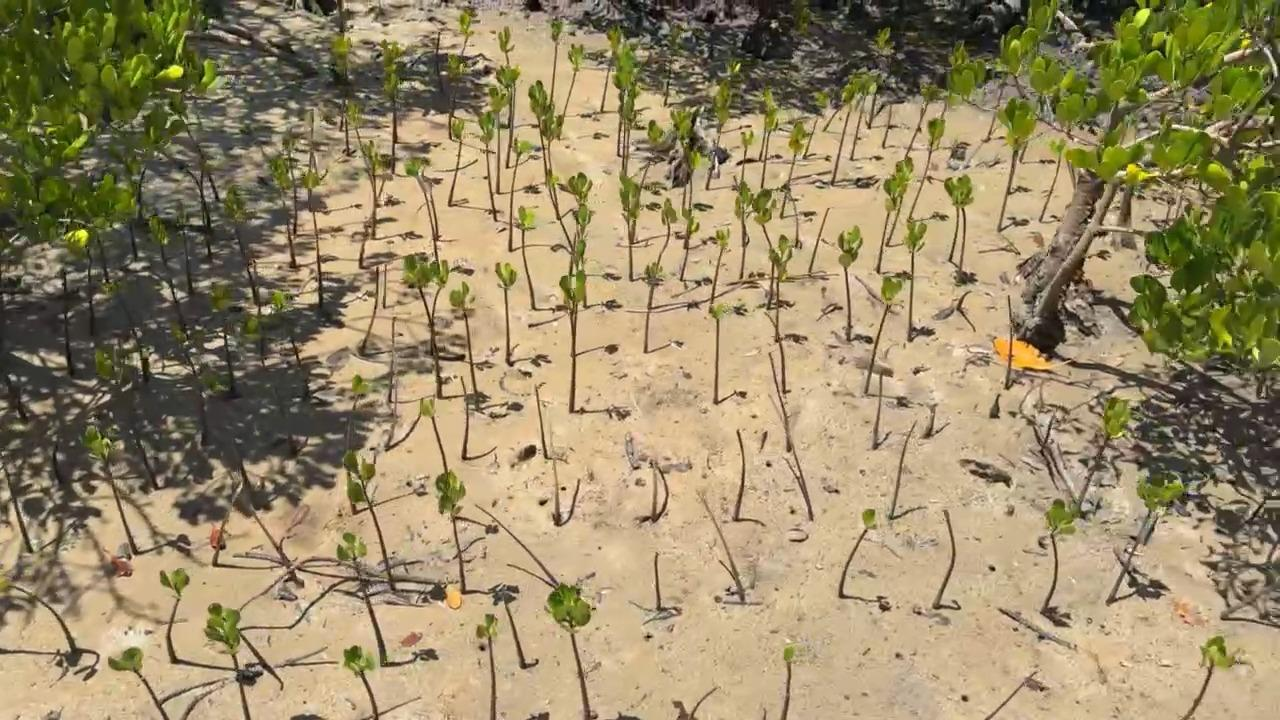Tree: (343, 451, 448, 602), (82, 422, 192, 557), (336, 530, 440, 668), (159, 568, 265, 688), (405, 252, 484, 408), (437, 469, 518, 605), (559, 269, 631, 420), (0, 575, 101, 682), (1106, 476, 1185, 608), (449, 282, 526, 412), (95, 342, 156, 486), (0, 454, 85, 554), (475, 613, 550, 720), (1072, 396, 1133, 518), (247, 317, 299, 454), (493, 262, 555, 368), (547, 583, 594, 720), (864, 274, 911, 407), (566, 171, 623, 280), (345, 98, 402, 204), (649, 196, 702, 309), (545, 14, 602, 119), (489, 86, 543, 196), (362, 142, 421, 240), (838, 508, 893, 612), (361, 266, 421, 360), (205, 602, 251, 720), (447, 119, 502, 213), (570, 204, 619, 309), (1180, 635, 1240, 720), (299, 167, 333, 311), (557, 44, 608, 139), (404, 158, 444, 278), (906, 116, 950, 225), (495, 65, 540, 171), (223, 184, 263, 303), (705, 92, 752, 193), (1041, 500, 1078, 628), (211, 500, 279, 569), (830, 90, 876, 191), (768, 235, 809, 348), (108, 646, 170, 720), (836, 226, 873, 346), (621, 169, 658, 285), (272, 288, 312, 395), (386, 316, 433, 407), (632, 119, 676, 215), (499, 27, 540, 129), (904, 216, 936, 343), (778, 120, 818, 220), (709, 303, 748, 404), (624, 72, 661, 178), (535, 133, 579, 220), (890, 418, 928, 518), (183, 154, 219, 259), (346, 375, 373, 514), (327, 33, 358, 154), (209, 282, 242, 395), (149, 218, 185, 319), (528, 81, 567, 174), (644, 260, 682, 355), (179, 117, 223, 198), (944, 176, 977, 284), (753, 187, 791, 280), (732, 428, 767, 528), (269, 156, 299, 268), (375, 39, 408, 139), (428, 257, 475, 325), (461, 375, 497, 463), (734, 179, 764, 282), (252, 515, 297, 582), (933, 508, 962, 610), (850, 79, 886, 161), (421, 161, 456, 245), (284, 123, 310, 236), (680, 208, 716, 289), (613, 41, 639, 153), (907, 80, 944, 156), (1219, 582, 1280, 628), (821, 77, 870, 134), (999, 139, 1029, 232), (717, 59, 754, 132), (984, 670, 1038, 720), (1039, 135, 1069, 225), (120, 293, 151, 380), (600, 22, 629, 114), (661, 21, 692, 106), (760, 112, 792, 192), (345, 645, 379, 720), (188, 363, 218, 447), (535, 384, 566, 465), (504, 598, 539, 669), (945, 178, 970, 276), (670, 108, 700, 188), (768, 353, 792, 452), (303, 108, 328, 200), (684, 143, 715, 217), (783, 446, 813, 522), (552, 451, 580, 526), (804, 90, 833, 161), (59, 263, 77, 375), (448, 53, 470, 140), (757, 92, 783, 162), (809, 208, 835, 277), (765, 312, 787, 392), (986, 73, 1010, 145), (873, 369, 894, 451), (1004, 294, 1022, 389), (871, 26, 901, 77), (654, 552, 679, 611), (456, 8, 481, 65), (86, 245, 101, 334), (169, 326, 196, 374), (781, 646, 798, 720), (687, 686, 721, 720), (735, 129, 756, 183), (719, 560, 746, 601), (651, 461, 669, 522), (882, 97, 903, 148), (434, 29, 447, 100), (97, 236, 115, 285), (924, 405, 949, 440), (129, 212, 142, 260)
